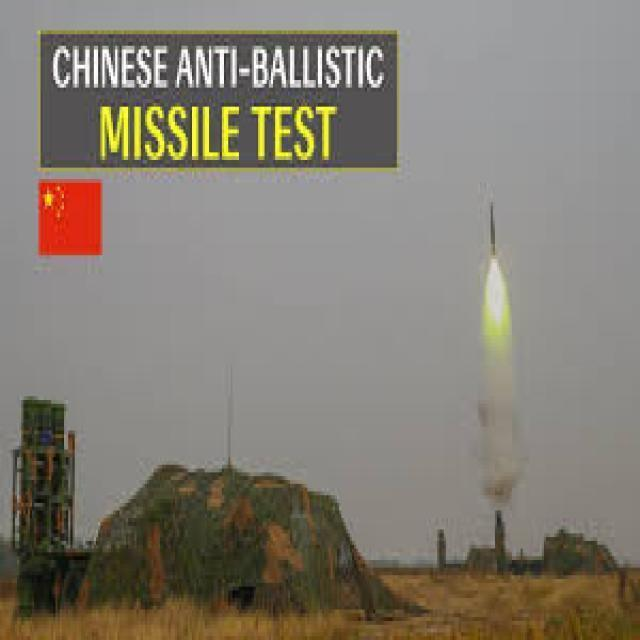Missile: (487, 198, 499, 263)
